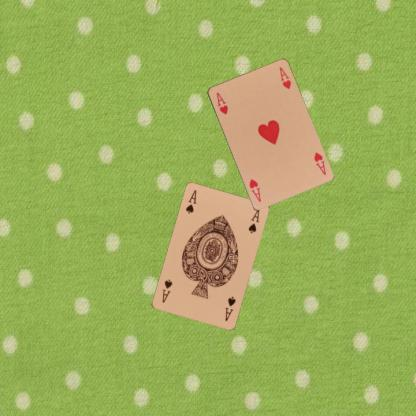Ah: (311, 150, 327, 176), (214, 90, 229, 116)
As: (222, 294, 237, 322), (183, 187, 198, 215)
